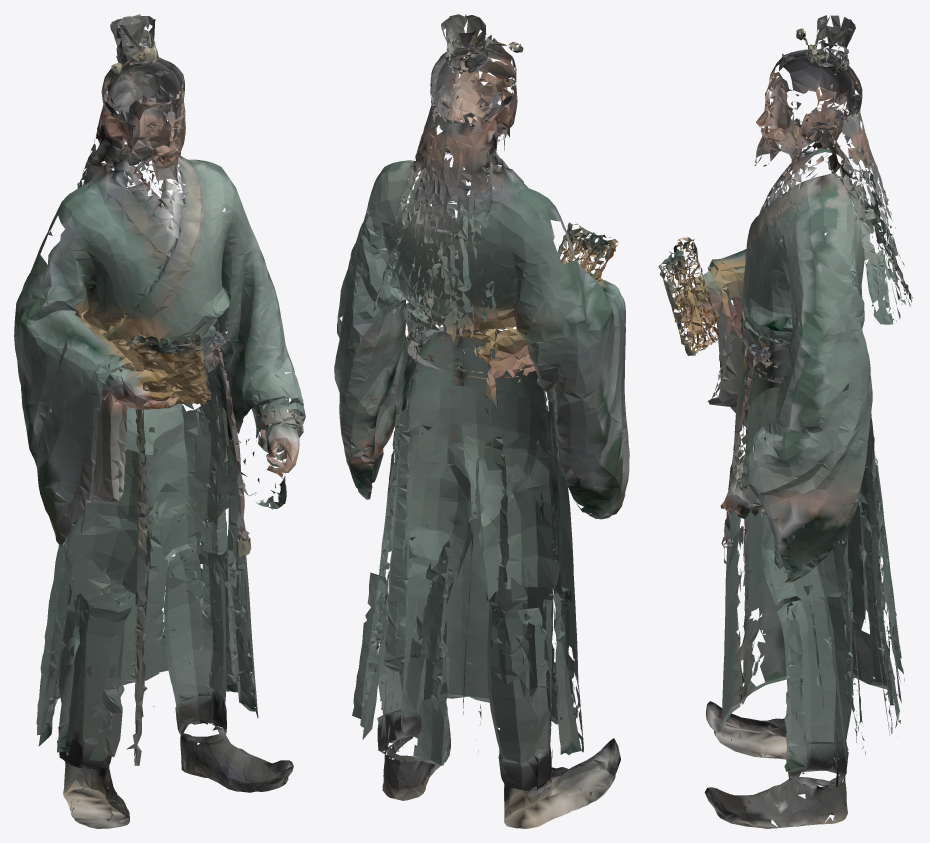
Rendered from suntzu.glb.
3 views of the same model, side by side, from view 1: azimuth 30°, elevation 25°; view 2: azimuth 150°, elevation 25°; view 3: azimuth 270°, elevation 25° (orthographic). The views are drawn at different scales.
Bounding box in the file's own units: 0.6053 × 1.68 × 0.5122.
